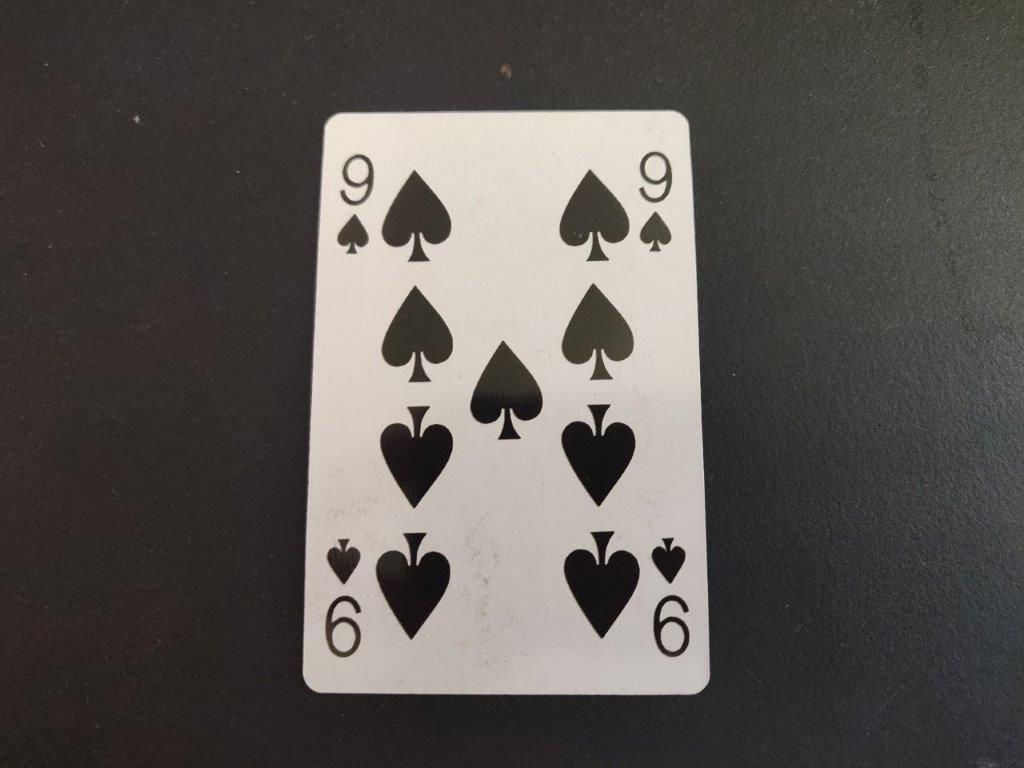9S: (335, 152, 378, 262), (635, 149, 677, 261)
